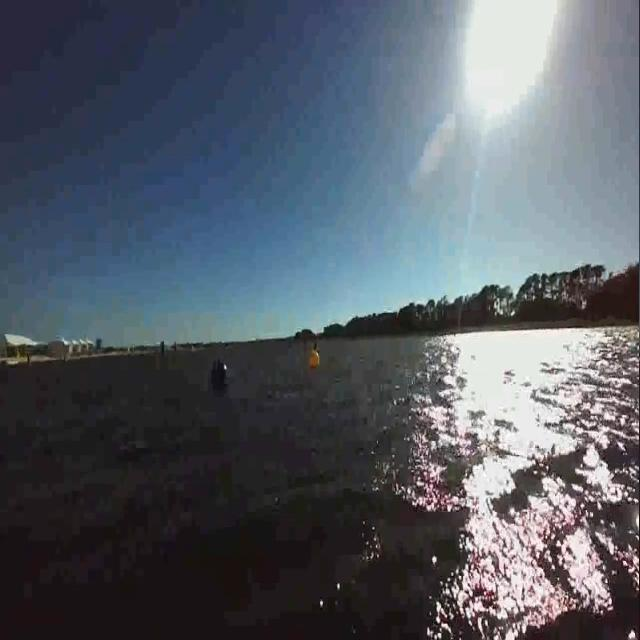black-buoy: (211, 358, 228, 385)
